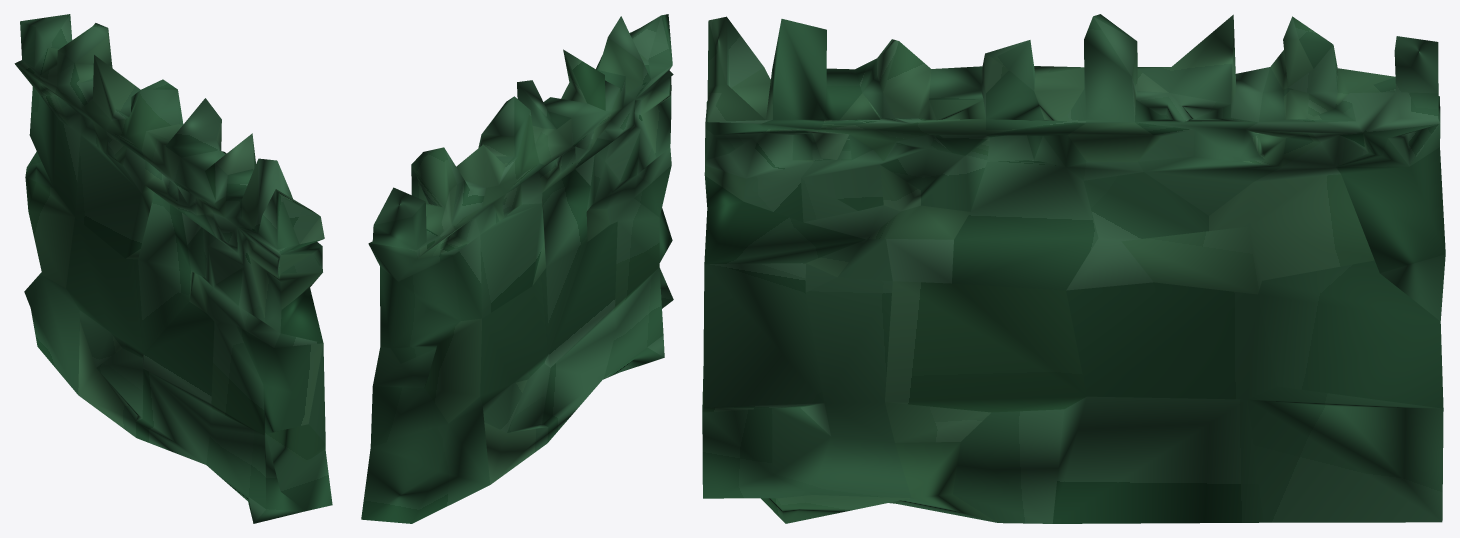
The model's file is castle_wall_diamond_green_lo.glb.
3 views of the same model, side by side, from view 1: azimuth 30°, elevation 25°; view 2: azimuth 150°, elevation 25°; view 3: azimuth 270°, elevation 25° (orthographic). The views are drawn at different scales.
Visible parts, largest first — view 1: tripo_node_1447b0d2-74e3-4713-a10a-ee67cf32bda1; view 2: tripo_node_1447b0d2-74e3-4713-a10a-ee67cf32bda1; view 3: tripo_node_1447b0d2-74e3-4713-a10a-ee67cf32bda1.
Part boxes in pixels (<box>): tripo_node_1447b0d2-74e3-4713-a10a-ee67cf32bda1: <box>14,14,332,523</box>; tripo_node_1447b0d2-74e3-4713-a10a-ee67cf32bda1: <box>361,14,673,523</box>; tripo_node_1447b0d2-74e3-4713-a10a-ee67cf32bda1: <box>702,14,1445,523</box>.
Bounding box in the file's own units: 0.1324 × 0.7077 × 0.9779.
Materials: 1 (1 with a texture image).
